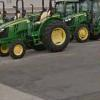Tractor: (6, 7, 96, 57)
